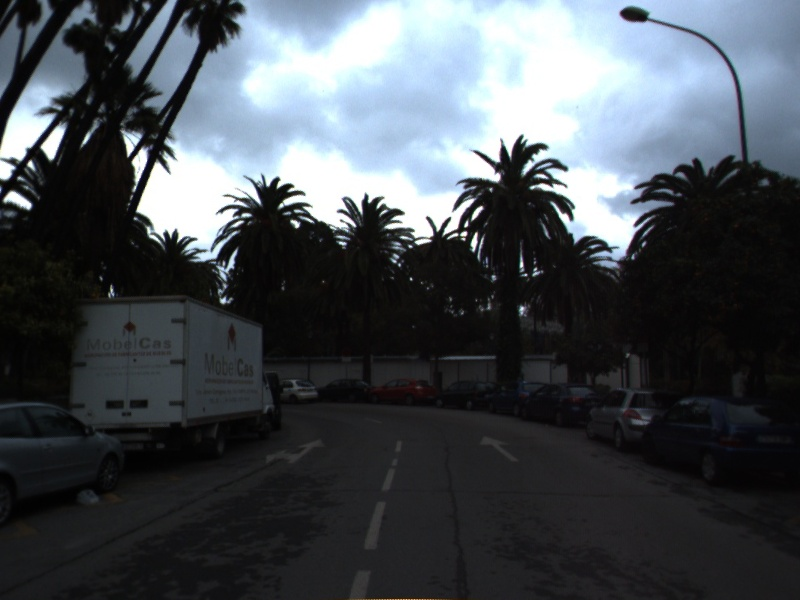STRAIGHT: (478, 433, 521, 463)
STRAIGHT_LEFT: (264, 436, 328, 466)
